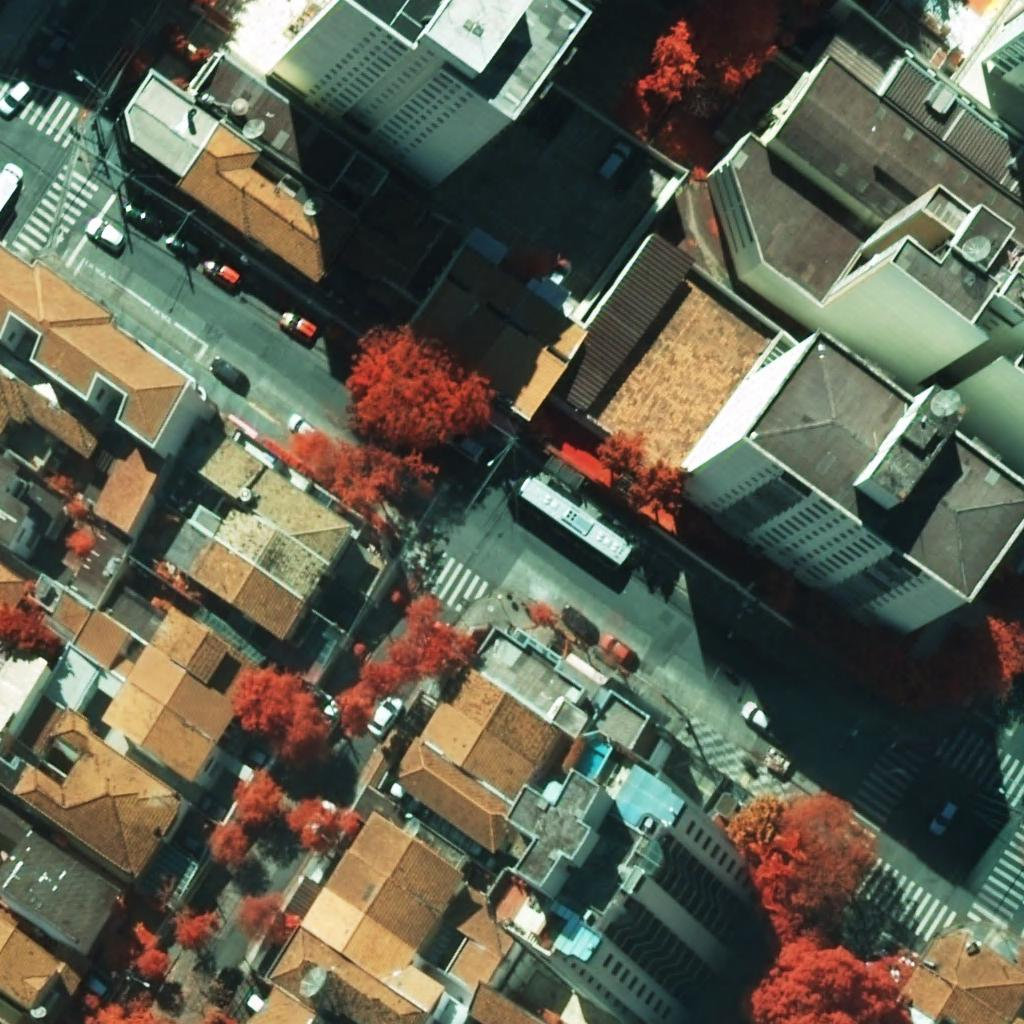pool: (575, 739, 611, 780)
